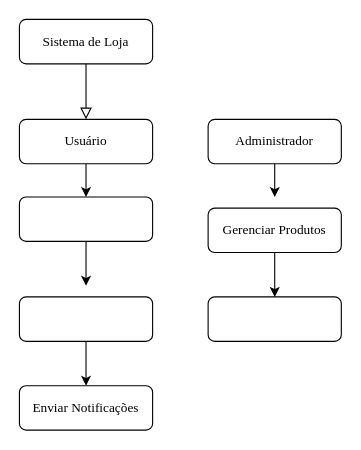
Some shapes in this 361 by 450 pixel diagram are drawn without their labels. The shapes that lost their labels are listed below. From the top down, each one's centre as x and y in pixels, then its label:
[85,218]: Navegar por Produtos
[85,318]: Finalizar Compra
[274,318]: Gerenciar Usuários
